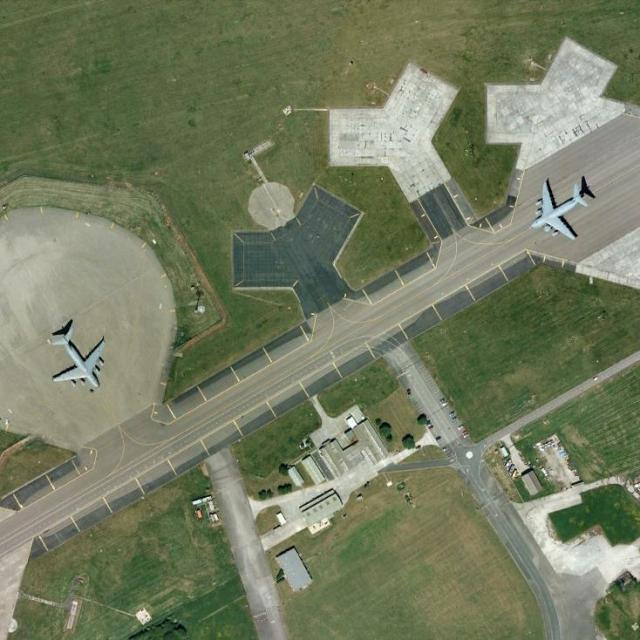fighter jet: (530, 174, 604, 246), (40, 316, 104, 394)
